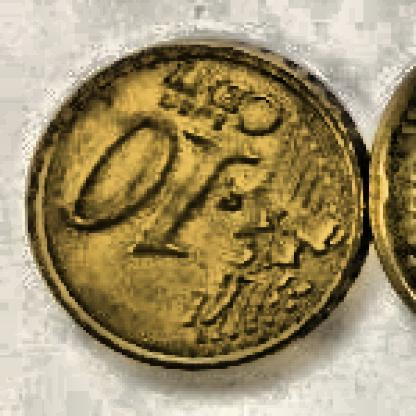coin: (28, 37, 373, 373)
